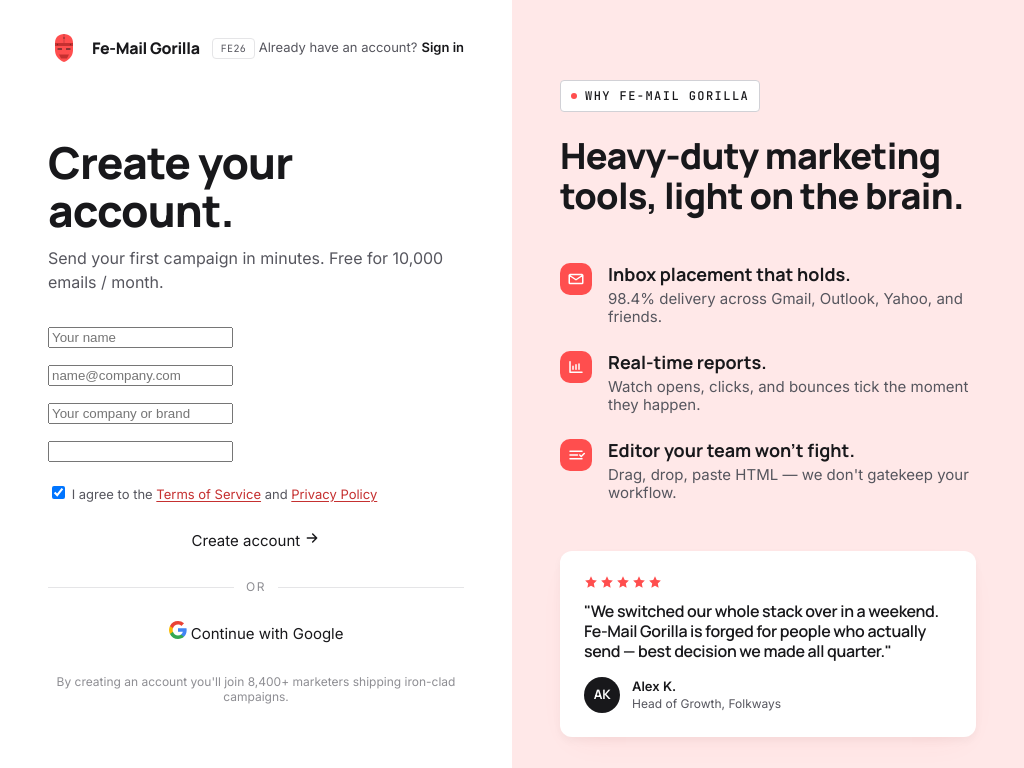
Test: signup.vue › SIGNUP-02: short (<8) password is blocked
The image size is (1024, 768).
Type "ok@example.com" into the field with placeholder "name@company.com" at x=140, y=376, box [48, 365, 233, 386]
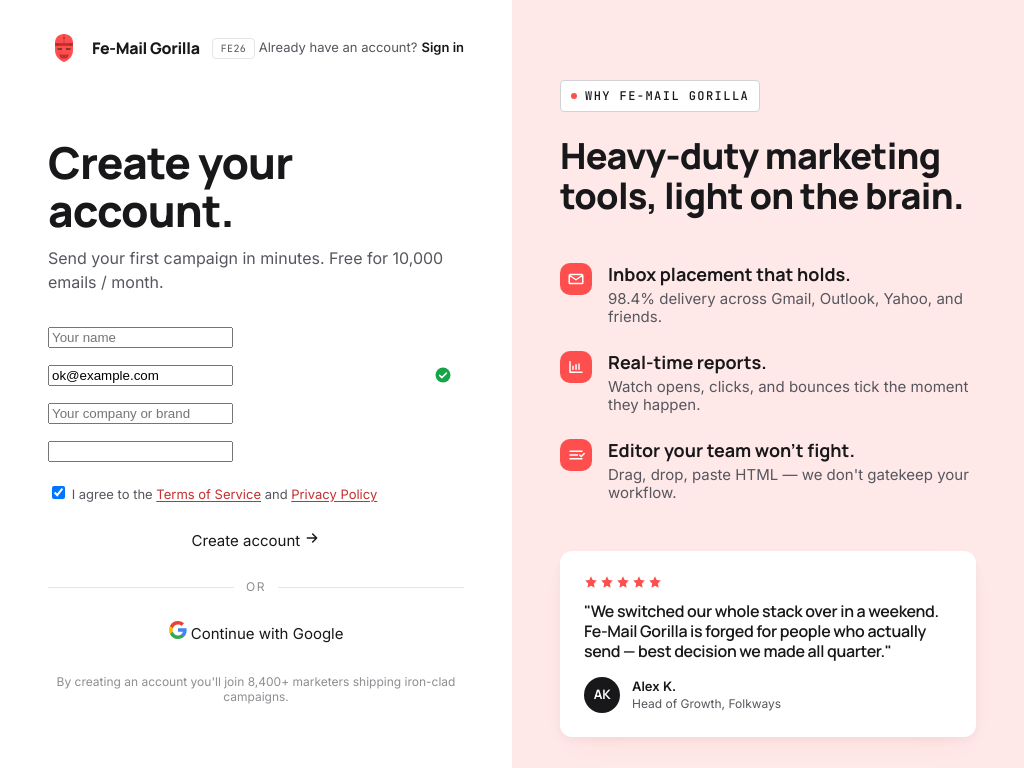
Type "short1" into the password field at x=140, y=452, box [48, 442, 233, 462]
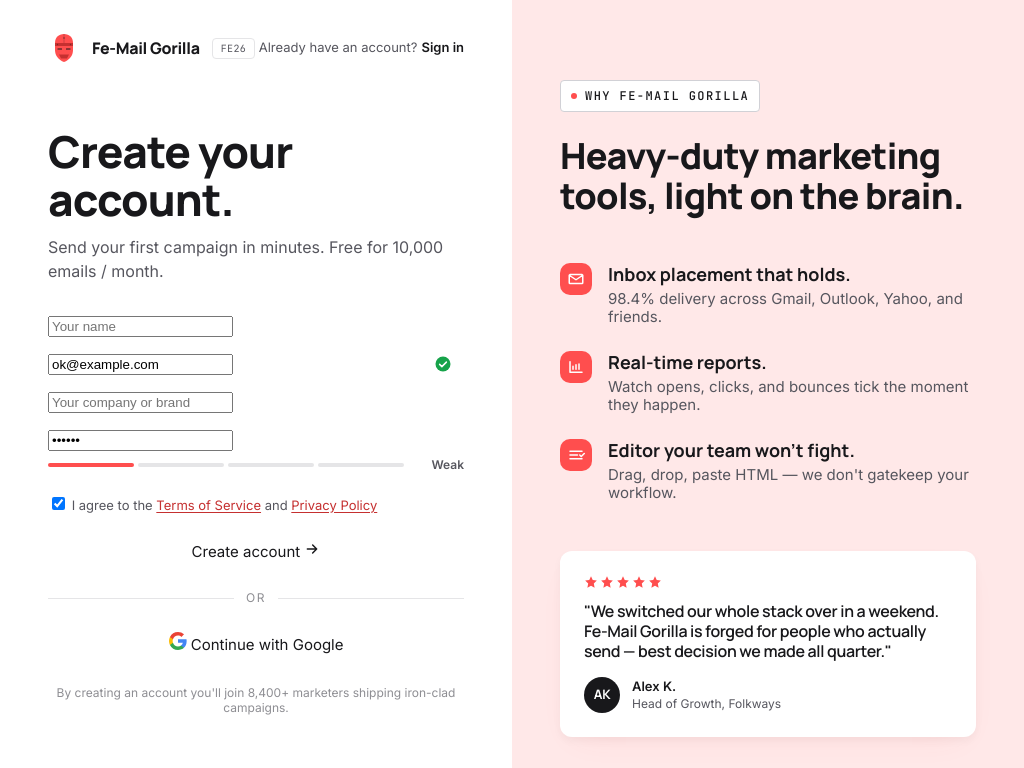
Submit the form, box [48, 316, 464, 716]
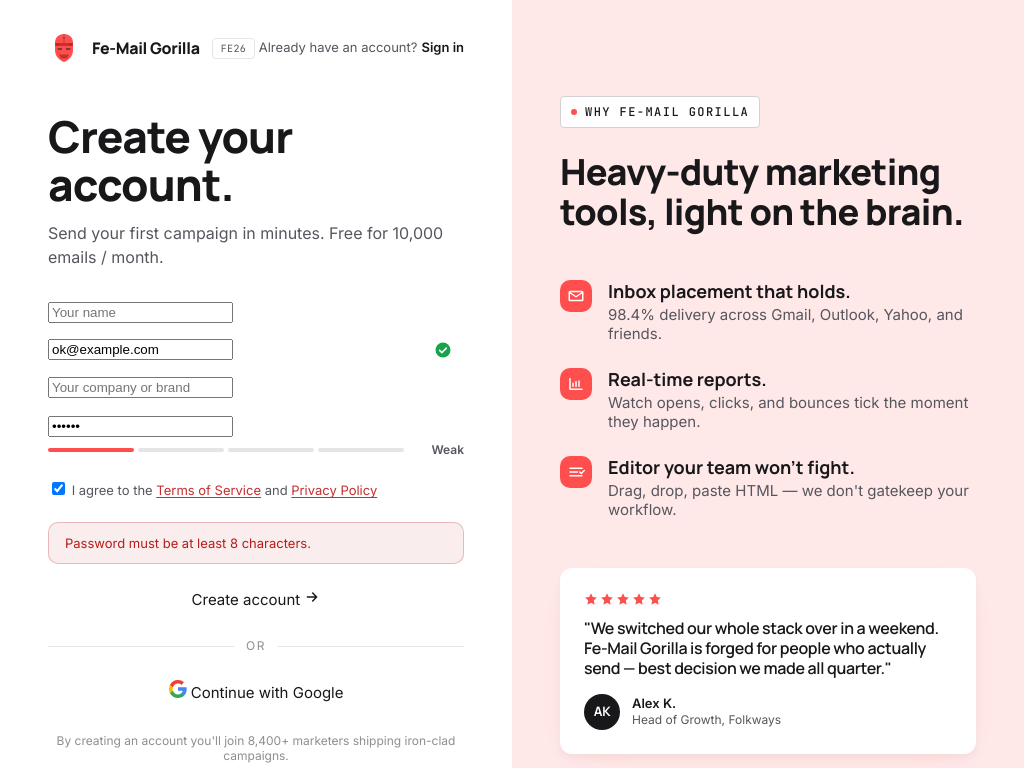
Now the message with class "form-error" reads "Password must be at least 8 characters.", box [65, 535, 311, 551]
